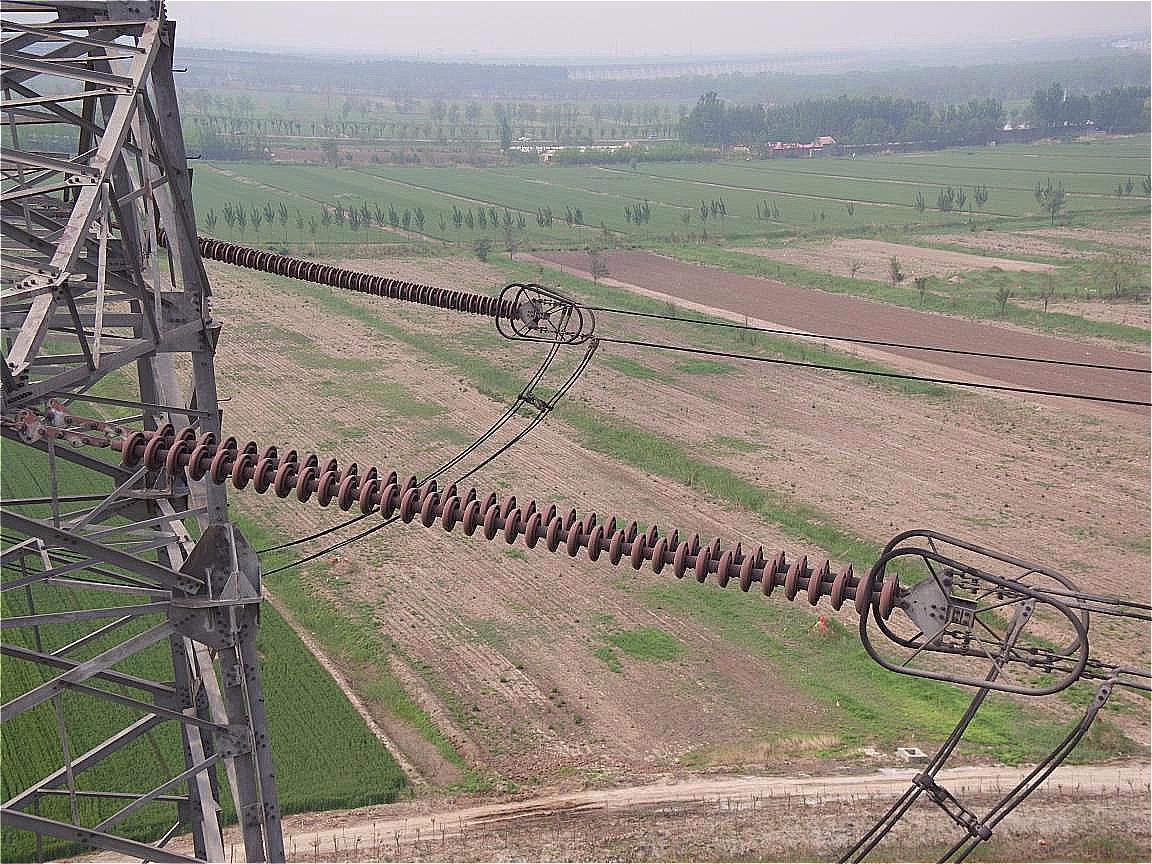insultor1: (108, 419, 924, 619)
insultor2: (185, 214, 547, 328)
